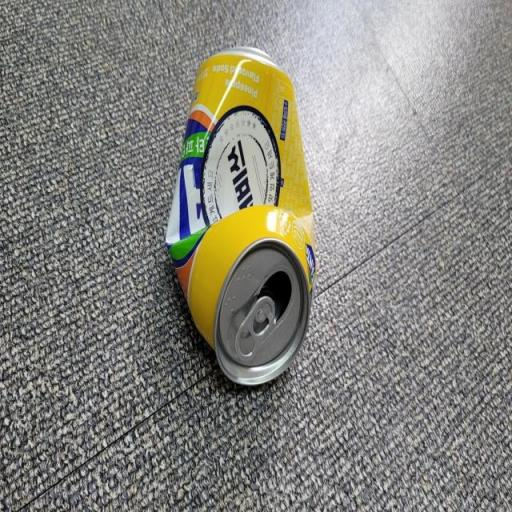metal: (158, 36, 336, 402)
